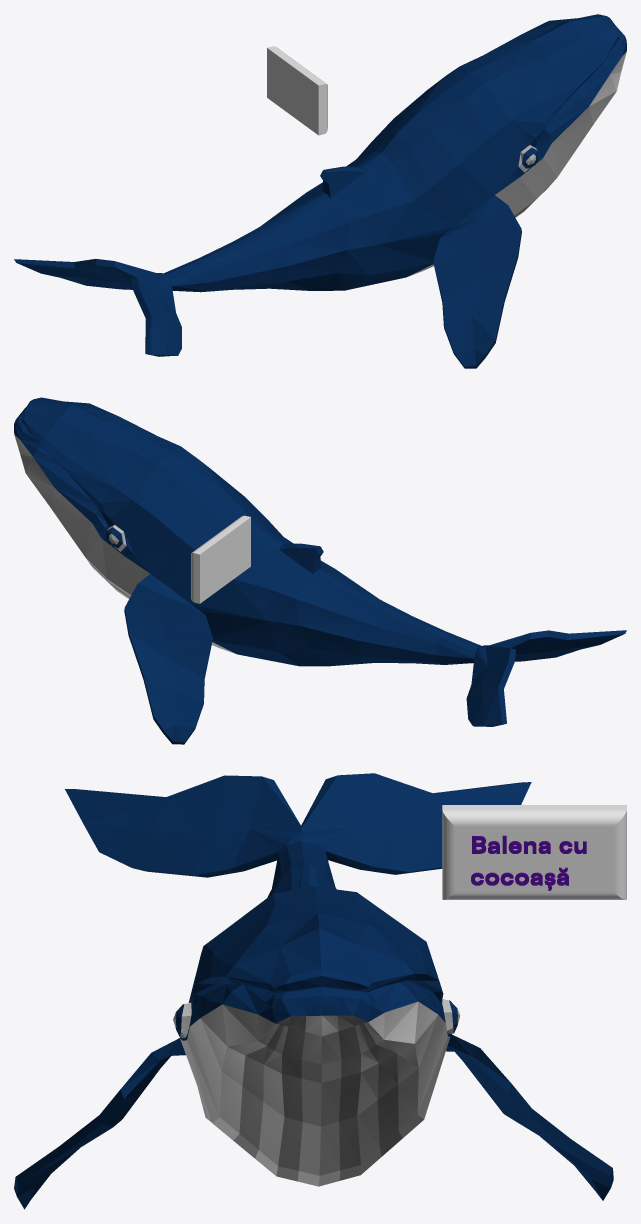
File: Whale.fbx
3 views of the same model, one above another, from view 1: azimuth 30°, elevation 25°; view 2: azimuth 150°, elevation 25°; view 3: azimuth 270°, elevation 25° (orthographic). The views are drawn at different scales.
Parts seen in each view (by area): view 1: Whale.004, Cube.010; view 2: Whale.004, Cube.010; view 3: Whale.004, Cube.010, Text.010.
Boxes of the visible parts, x1,y1,x2,y2 form: Whale.004: [14, 14, 626, 368]; Cube.010: [267, 46, 327, 135]; Whale.004: [14, 397, 626, 744]; Cube.010: [191, 515, 250, 603]; Whale.004: [14, 773, 613, 1209]; Cube.010: [442, 805, 626, 899]; Text.010: [471, 835, 586, 890].
Size of the model in its own units: 10.3 by 4.39 by 5.61.
